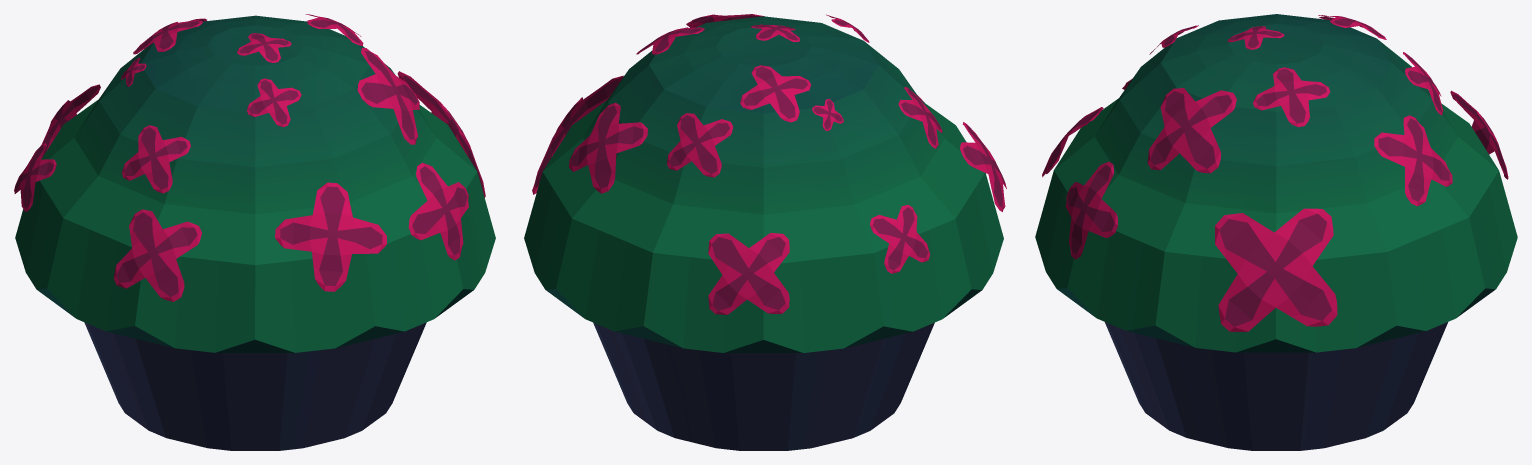
File: Garden_ShrubPlanter04.fbx
3 views of the same model, side by side, from view 1: azimuth 30°, elevation 25°; view 2: azimuth 150°, elevation 25°; view 3: azimuth 270°, elevation 25° (orthographic).
Parts seen in each view (by area): view 1: Cylinder.209; view 2: Cylinder.209; view 3: Cylinder.209.
Part boxes in pixels (left/top/right/bottom): Cylinder.209: left=14, top=14, right=495, bottom=450; Cylinder.209: left=524, top=14, right=1006, bottom=450; Cylinder.209: left=1035, top=14, right=1517, bottom=450.
Bounding box in the file's own units: 29.43 × 24.22 × 29.43.
